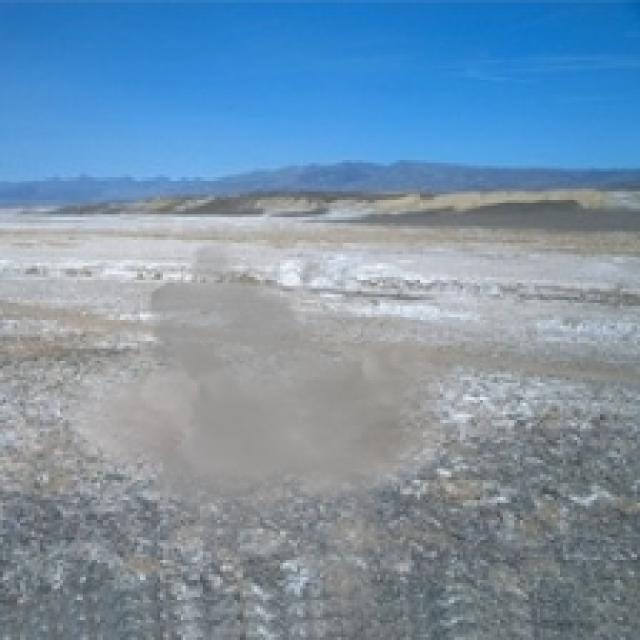Smoke: (66, 231, 460, 626)
